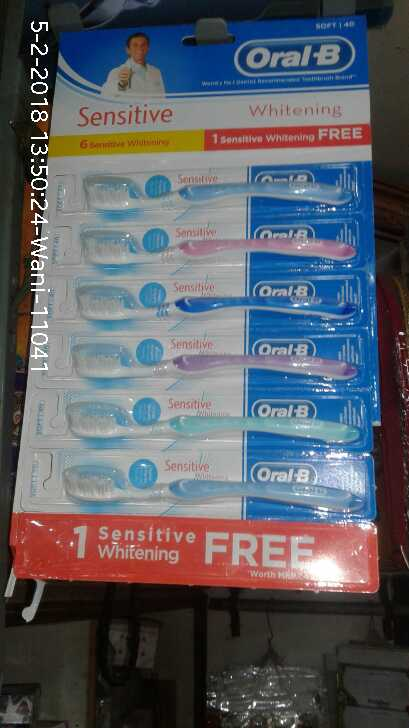oralb: (61, 451, 369, 521), (58, 390, 372, 445), (69, 338, 359, 386), (77, 278, 359, 327), (91, 167, 363, 216), (74, 227, 356, 262)
